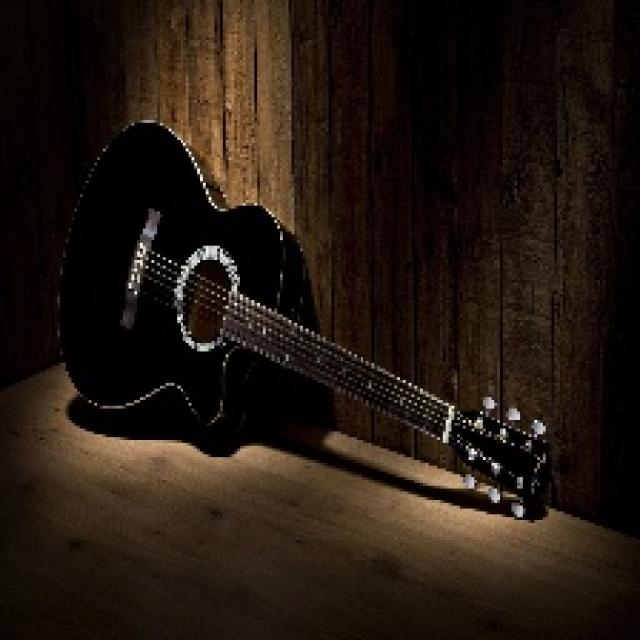guitar: (49, 121, 552, 529)
